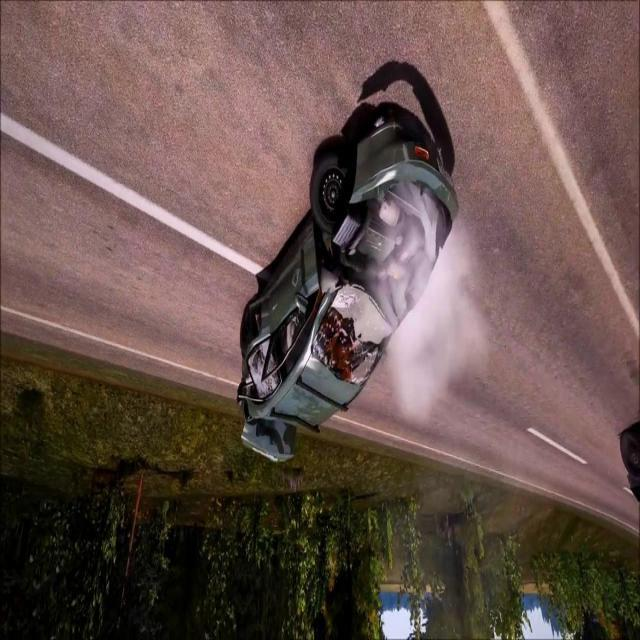severe: (233, 111, 467, 467)
